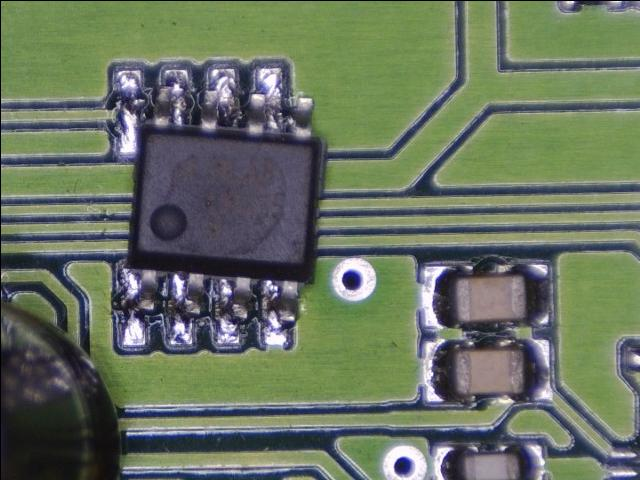Incorrect_installation: (114, 63, 328, 350)
